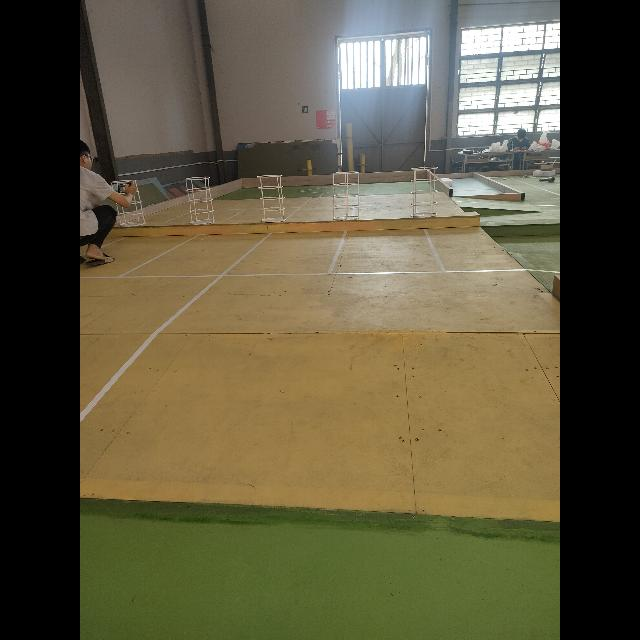S: (184, 176, 215, 225), (410, 166, 439, 217), (257, 174, 287, 223), (333, 171, 360, 221)
